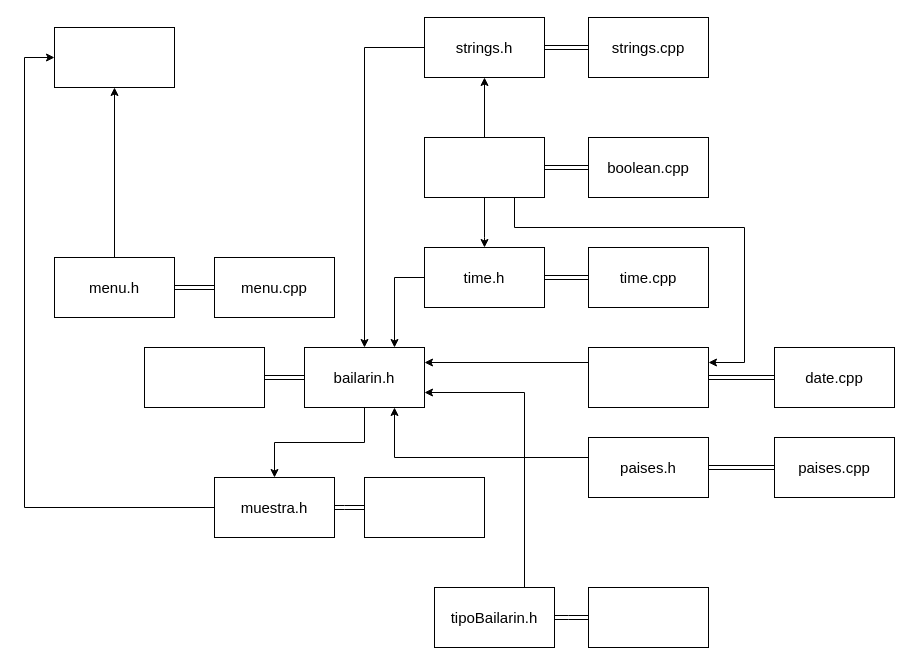
Some shapes in this 912 by 665 pixel diagram are drawn without their labels. Here are the shapes that lost their labels. From the top down, the centre of each, then its label:
(x=114, y=57): main.cpp
(x=484, y=167): boolean.h
(x=204, y=377): bailarin.cpp
(x=648, y=377): date .h
(x=424, y=507): muestra.cpp
(x=648, y=617): tipoBailarin.cpp
